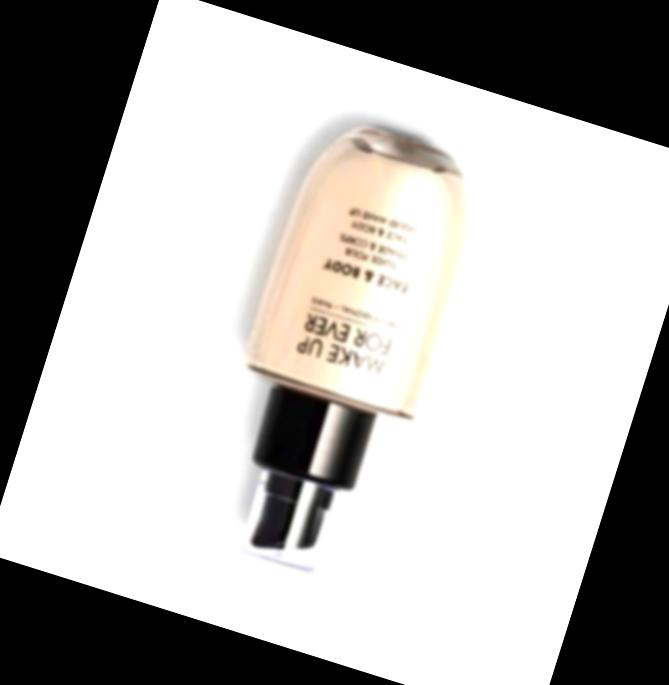cosmetic: (185, 107, 496, 591)
